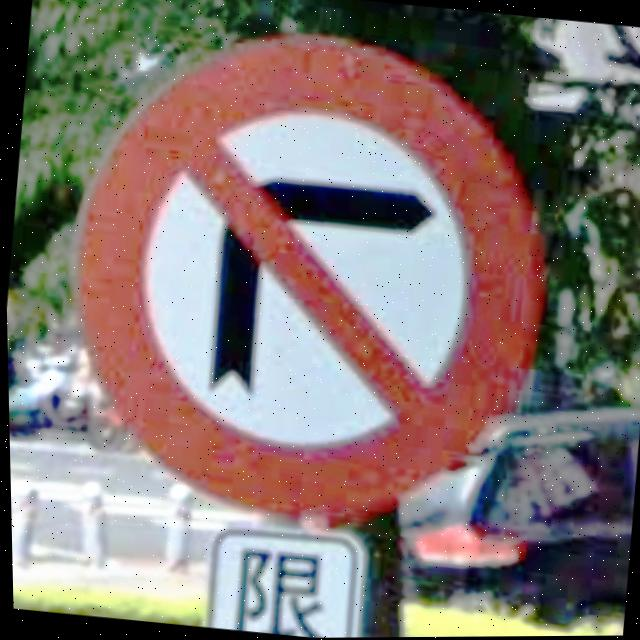noturnright: (69, 36, 540, 523)
